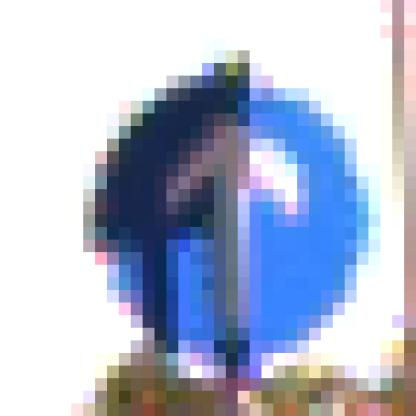AheadOnly: (72, 64, 346, 354)
